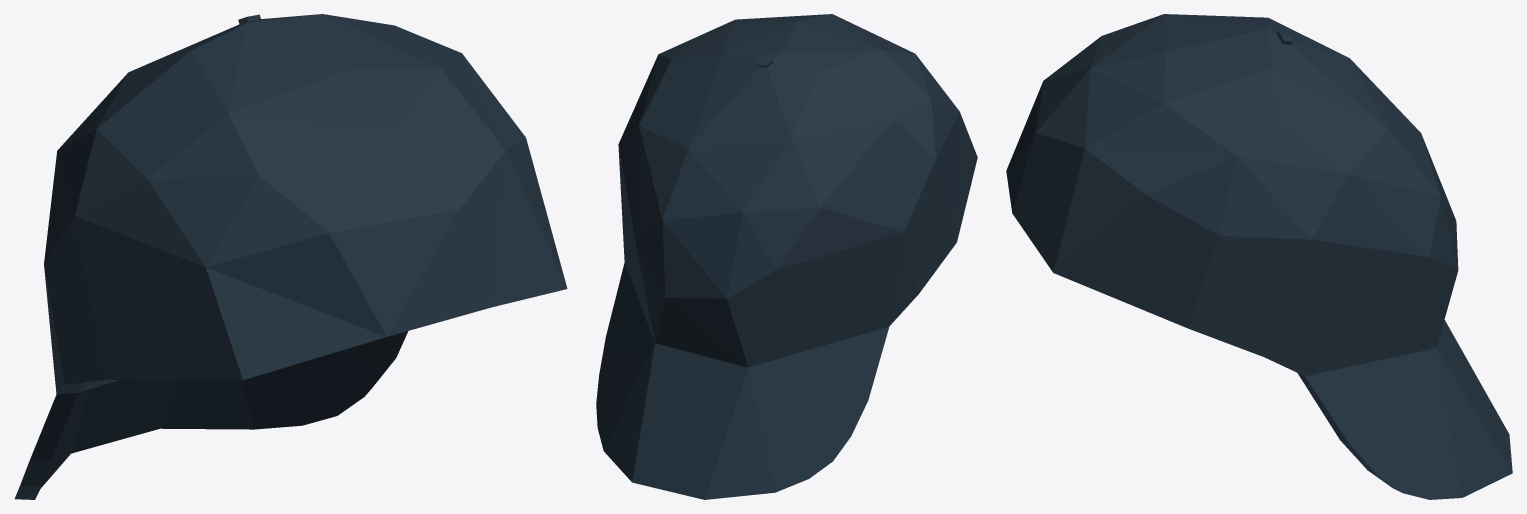
File: Pedestrian_Boy_Hat.fbx
3 views of the same model, side by side, from view 1: azimuth 30°, elevation 25°; view 2: azimuth 150°, elevation 25°; view 3: azimuth 270°, elevation 25° (orthographic). The views are drawn at different scales.
Parts seen in each view (by area): view 1: Pedestrian_Boy_Hat; view 2: Pedestrian_Boy_Hat; view 3: Pedestrian_Boy_Hat.
Boxes of the visible parts, box(x1,y1,x2,y2) form: Pedestrian_Boy_Hat: box(14, 14, 567, 499); Pedestrian_Boy_Hat: box(596, 14, 977, 499); Pedestrian_Boy_Hat: box(1006, 14, 1512, 499).
Bounding box in the file's own units: 20.33 × 23.63 × 25.69.
